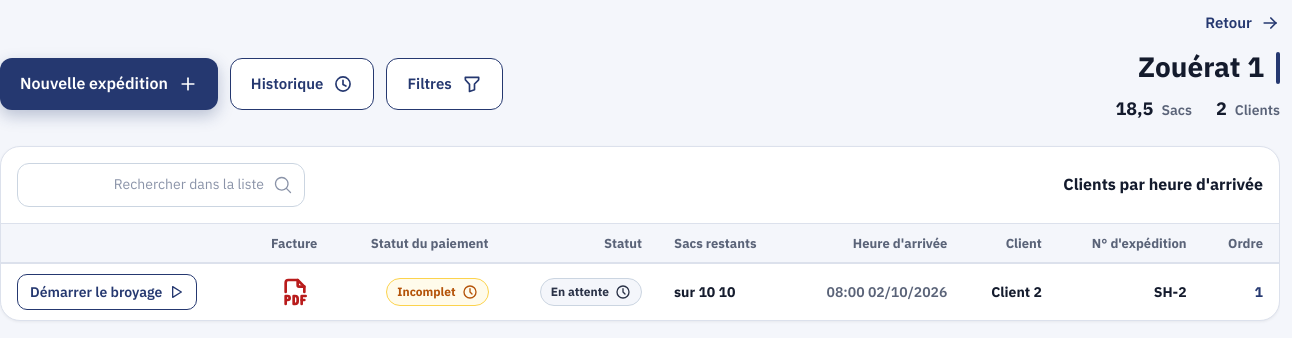
Test: ProjectStorageScreen › asks the backend for the typed search and hides the places in line
Type "46 00" into the search field with placeholder "Rechercher dans la liste".
click(161, 184); type("46 00")  # box x1=17 y1=162 x2=305 y2=206
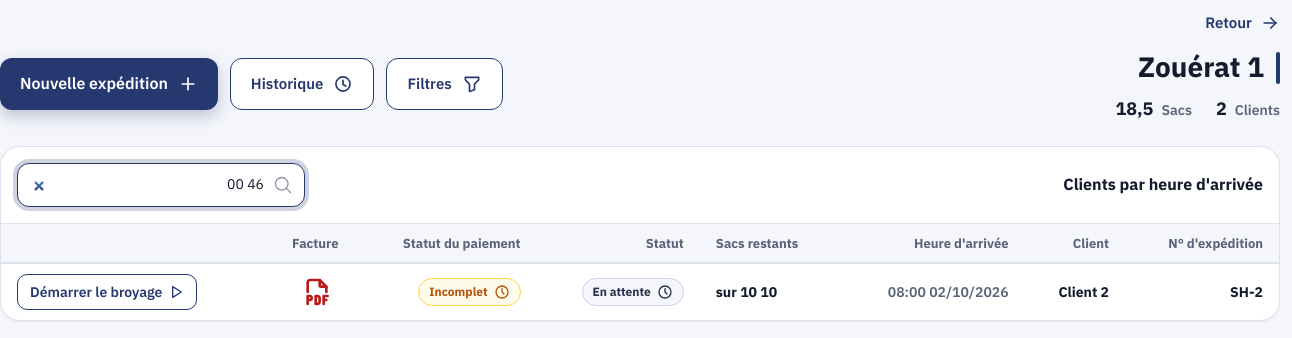
Now the column heading "Ordre" is gone
